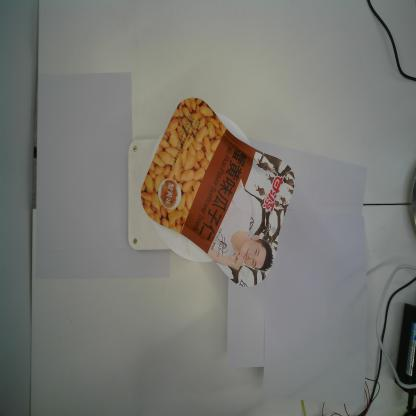Dried Fruit: (141, 97, 295, 287)
